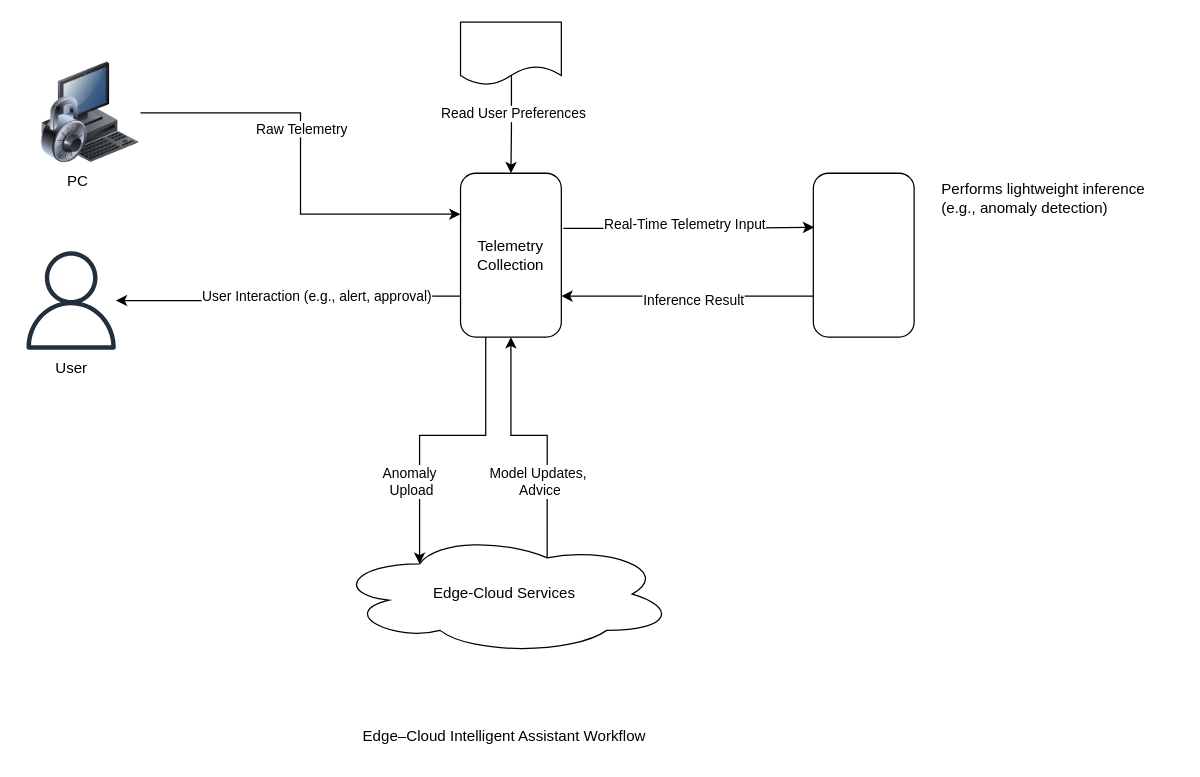
Image size: 1200x777. Some labels were removed from this diagram. The centre of each missing label's shape, as x and y in pixels:
config.yml: point (510, 53)
Local Model: point (863, 254)
